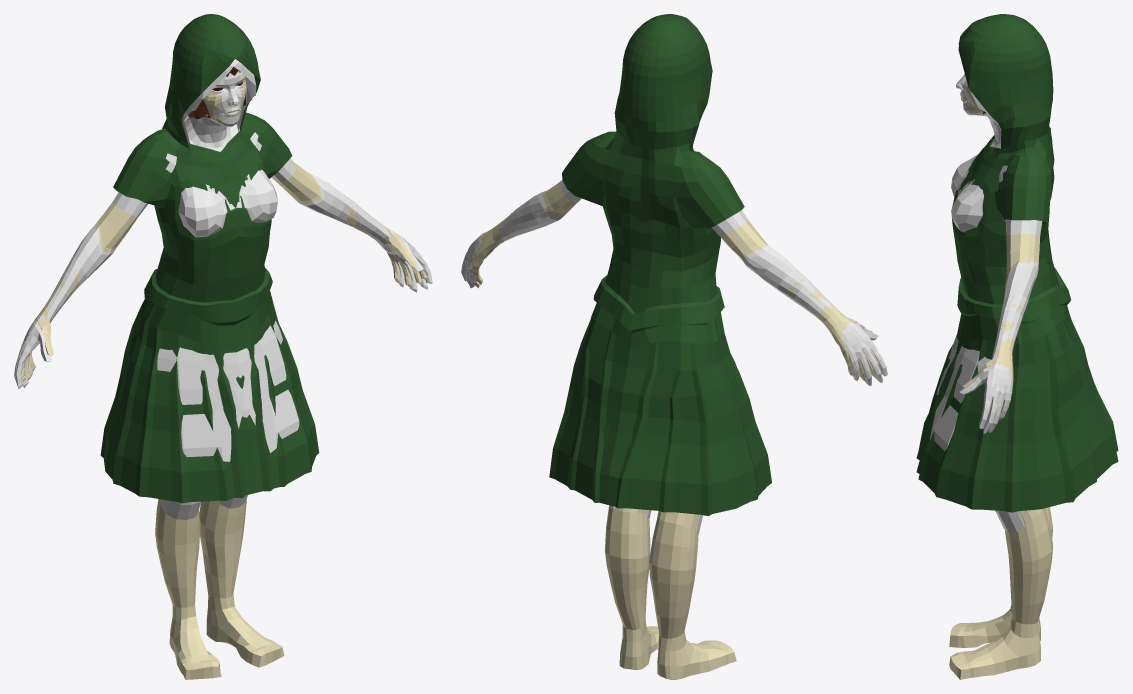
The model's file is DruidHenchmen.fbx.
The picture shows the model from 3 angles, left to right: view 1: azimuth 30°, elevation 25°; view 2: azimuth 150°, elevation 25°; view 3: azimuth 270°, elevation 25°; orthographic projection.
Parts seen in each view (by area): view 1: clothing, BODY, OLD, clothingARMOUR; view 2: clothing, BODY, OLD; view 3: clothing, BODY, OLD, clothingARMOUR.
Part boxes in pixels (x1,y1,x2,y2): clothing: (100,14,319,503); BODY: (21,75,426,679); OLD: (14,71,432,519); clothingARMOUR: (157,59,299,461); clothing: (549,14,771,516); BODY: (464,180,880,679); OLD: (461,181,887,534); clothing: (916,14,1118,512); BODY: (949,85,1052,679); OLD: (951,74,1042,531); clothingARMOUR: (929,91,1007,450).
Size of the model in its own units: 536 by 784 by 225.
